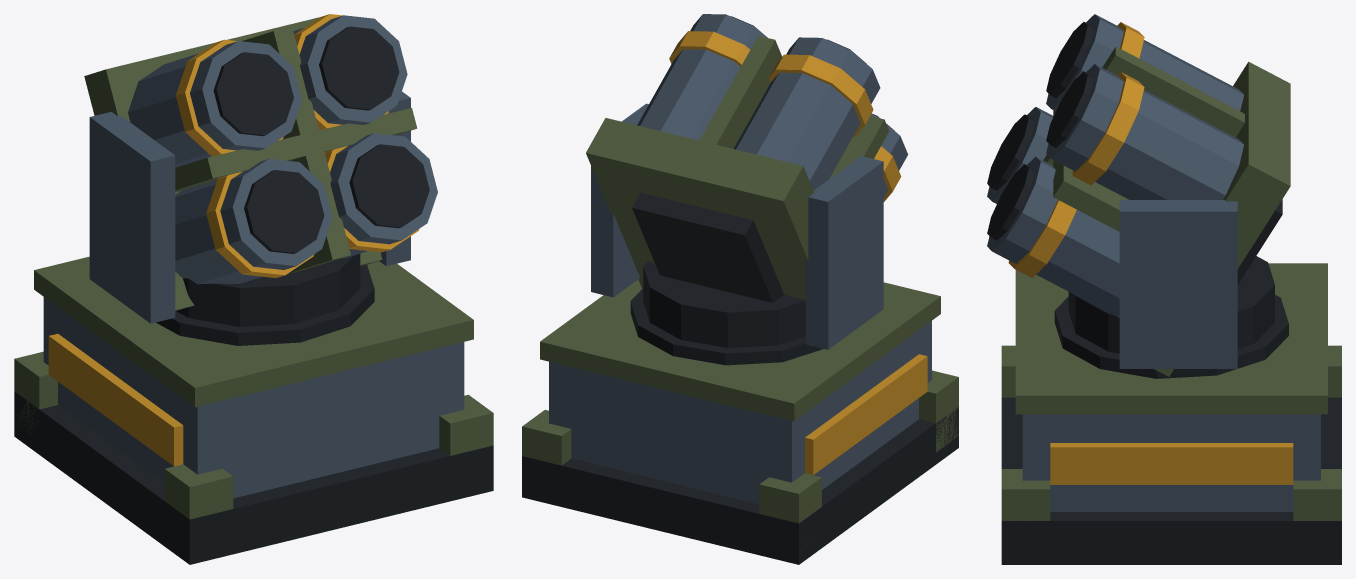
The model's file is tower_rocket.glb.
The picture shows the model from 3 angles, left to right: view 1: azimuth 30°, elevation 25°; view 2: azimuth 150°, elevation 25°; view 3: azimuth 270°, elevation 25°; orthographic projection. The views are drawn at different scales.
Parts seen in each view (by area): view 1: base, head; view 2: base, head; view 3: base, head.
Part boxes in pixels (x1,y1,x2,y2): base: (14,256,493,564); head: (84,14,437,326); base: (522,279,958,564); head: (586,14,908,349); base: (1001,263,1341,564); head: (987,14,1290,376).
Bounding box in the file's own units: 0.98 × 1.43 × 1.02.
